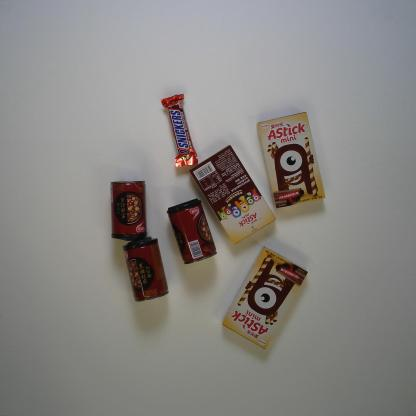Canned Food: (164, 198, 218, 264), (122, 235, 170, 302), (107, 180, 149, 240)
Chocolate: (160, 92, 200, 169)
Dessert: (220, 246, 310, 354), (188, 144, 278, 246), (255, 110, 326, 209)
